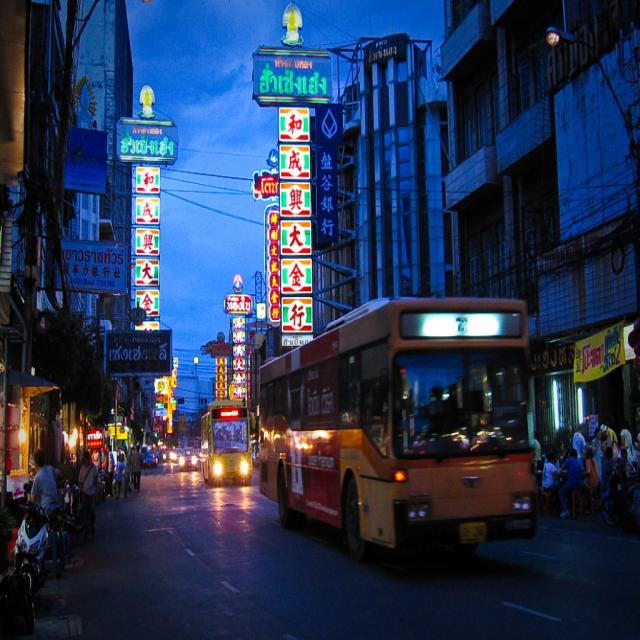Bus: (263, 308, 539, 575), (188, 384, 254, 508)
Motorbike: (0, 534, 81, 640)
People: (25, 442, 77, 543), (416, 373, 460, 456), (71, 444, 97, 553), (118, 429, 153, 507), (584, 447, 610, 530), (620, 415, 640, 500), (539, 437, 559, 520), (603, 406, 622, 493), (565, 449, 587, 512)
